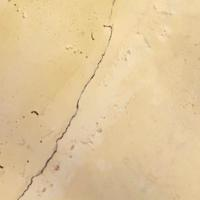crack: (12, 18, 145, 199)
